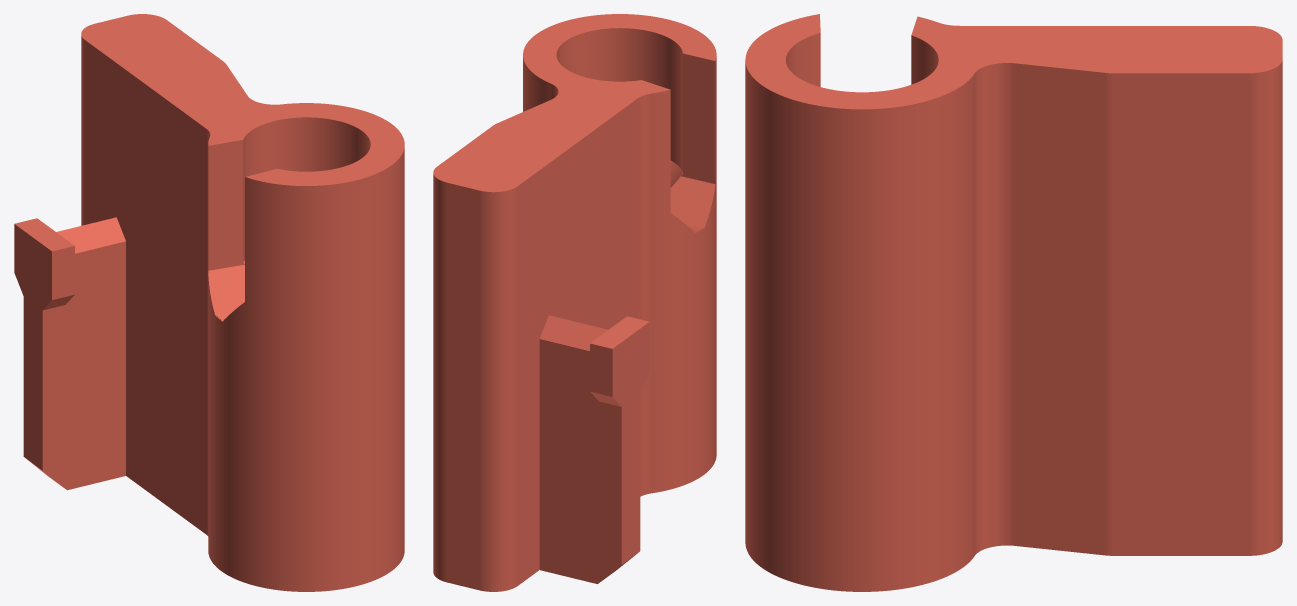
The model's file is lever.glb.
3 views of the same model, side by side, from view 1: azimuth 30°, elevation 25°; view 2: azimuth 150°, elevation 25°; view 3: azimuth 270°, elevation 25° (orthographic). The views are drawn at different scales.
Parts seen in each view (by area): view 1: =>[0:1:1:3]; view 2: =>[0:1:1:3]; view 3: =>[0:1:1:3].
Part boxes in pixels (box(x1,y1,x2,y2)): =>[0:1:1:3]: box(14, 14, 404, 591); =>[0:1:1:3]: box(433, 14, 716, 591); =>[0:1:1:3]: box(745, 14, 1282, 591).
Bounding box in the file's own units: 0.0139 × 0.0237 × 0.0239.
